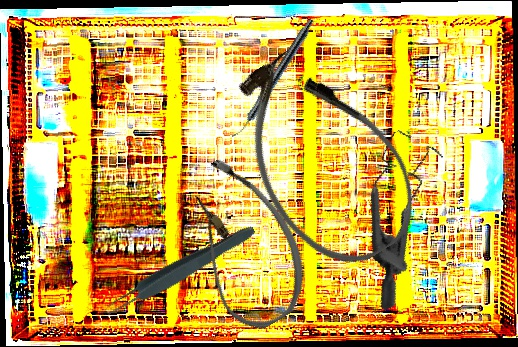Cannula: (207, 29, 439, 287), (156, 145, 328, 342)
Handpiece: (230, 15, 317, 143)
Speculum: (320, 118, 490, 311)
Tissue Forceps: (100, 219, 259, 321)
